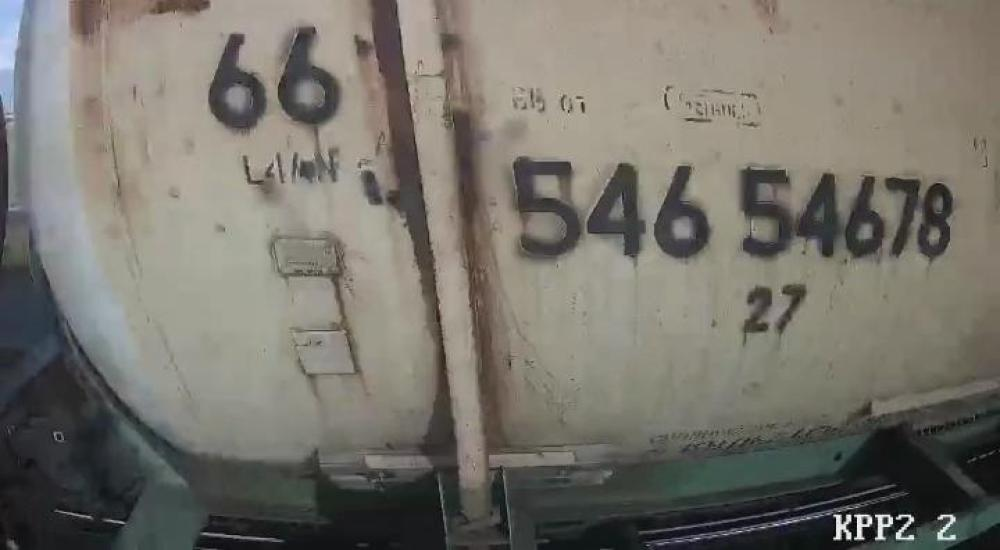Wagon-number: (504, 151, 960, 264)
